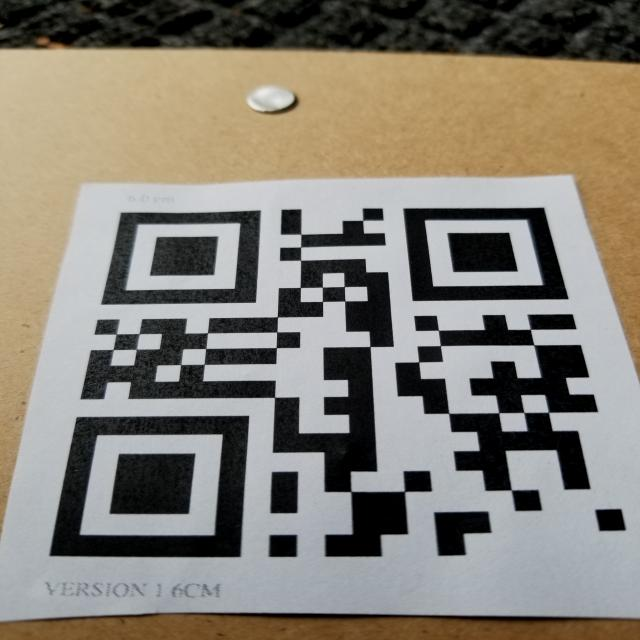QRCode: (33, 170, 640, 597)
